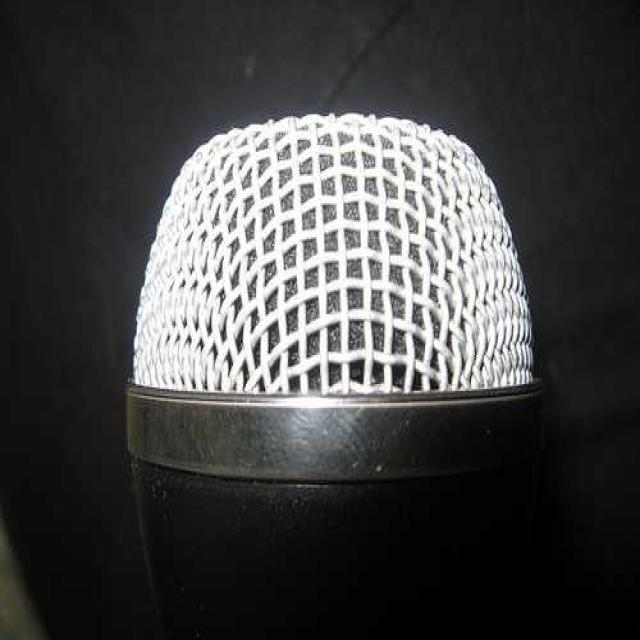microphone: (125, 109, 544, 631)
